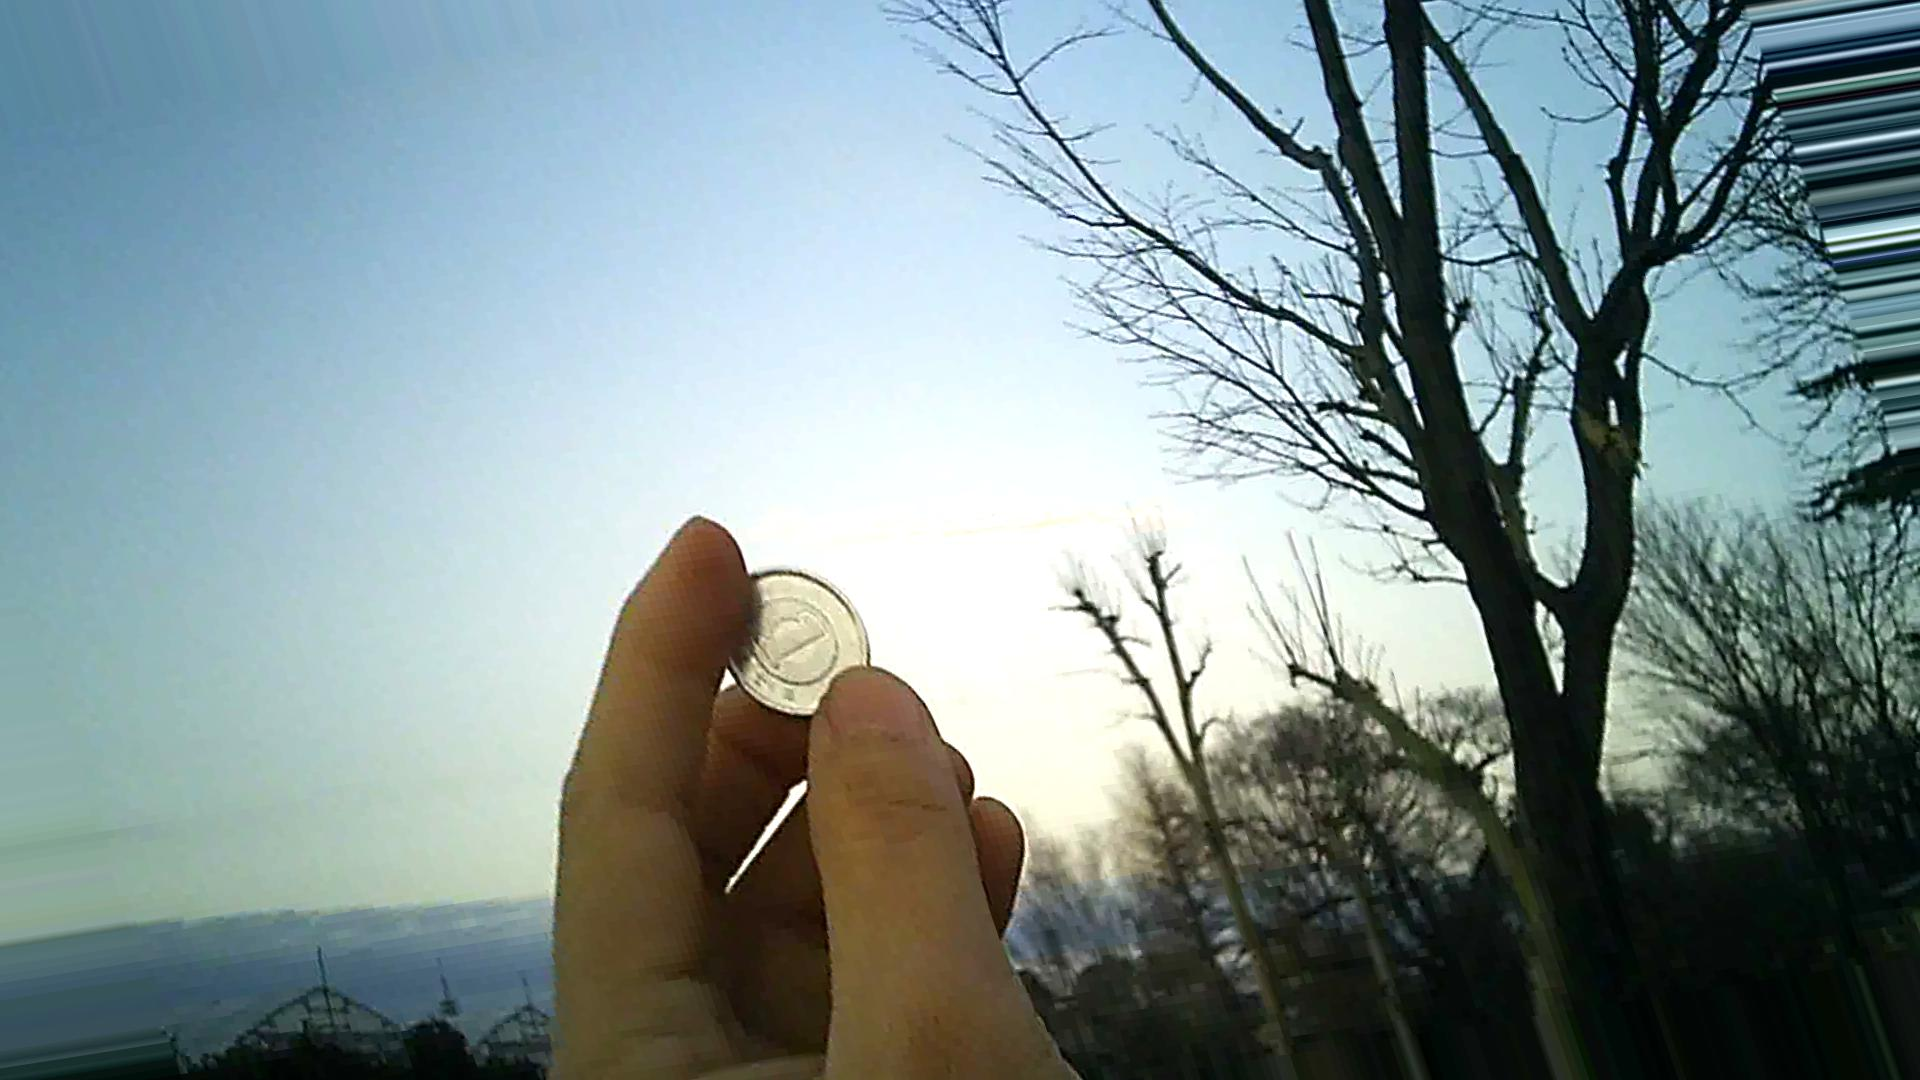1 Yen: (698, 553, 870, 735)
